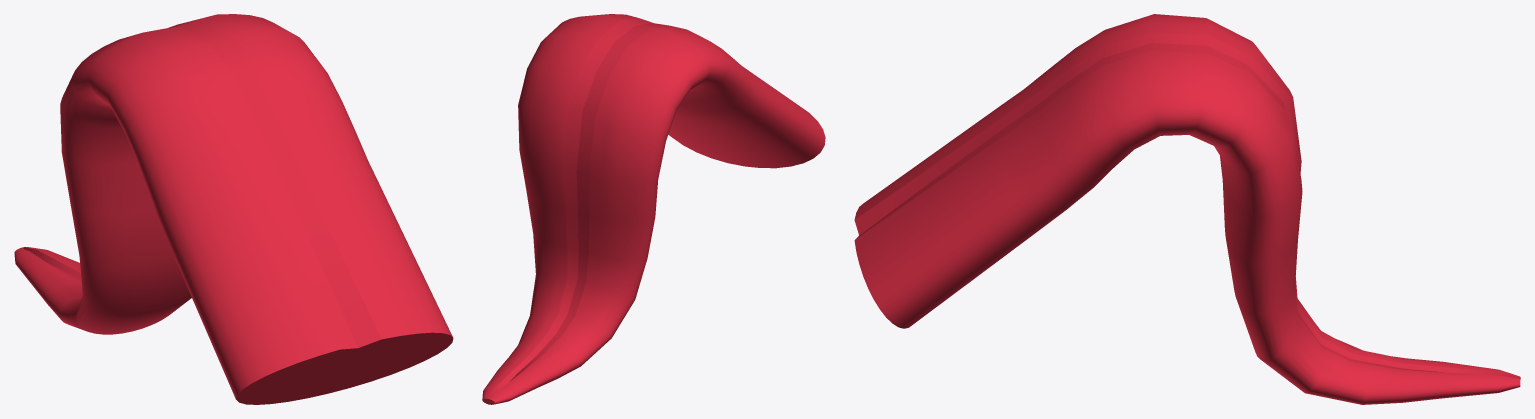
File: enemy_tongue.obj
3 renders of one model, left to right at view 1: azimuth 30°, elevation 25°; view 2: azimuth 150°, elevation 25°; view 3: azimuth 270°, elevation 25°, orthographic. The views are drawn at different scales.
Visible parts, largest first — view 1: 円錐; view 2: 円錐; view 3: 円錐.
Part boxes in pixels (x1=…): 円錐: x1=14, y1=14, x2=453, y2=404; 円錐: x1=482, y1=14, x2=825, y2=404; 円錐: x1=854, y1=14, x2=1520, y2=404.
Bounding box in the file's own units: 1.18 × 1.88 × 3.2.
